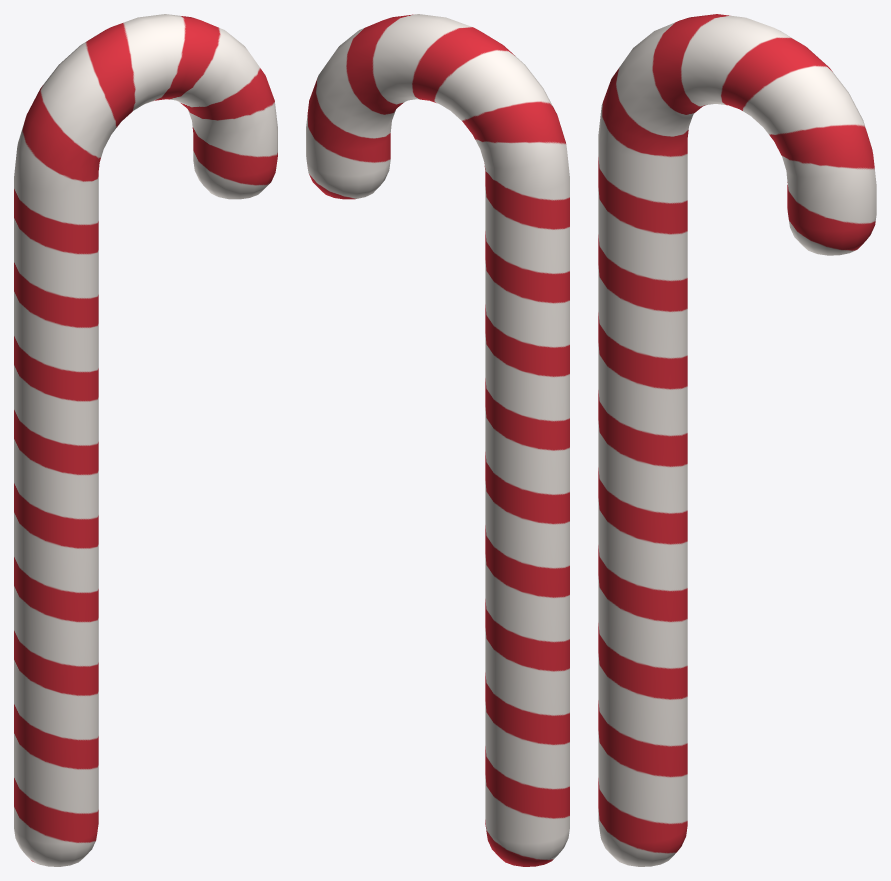
Rendered from candy_cane.glb.
3 renders of one model, left to right at view 1: azimuth 30°, elevation 25°; view 2: azimuth 150°, elevation 25°; view 3: azimuth 330°, elevation 25°, orthographic. The views are drawn at different scales.
Visible parts, largest first — view 1: candy_cane_post; view 2: candy_cane_post; view 3: candy_cane_post.
Part boxes in pixels (box(x1,y1,x2,y2)): candy_cane_post: box(14, 14, 277, 866); candy_cane_post: box(306, 14, 569, 866); candy_cane_post: box(598, 14, 876, 866).
Size of the model in its own units: 0.4832 by 1.5 by 0.1409.
1 material, 1 textured.
